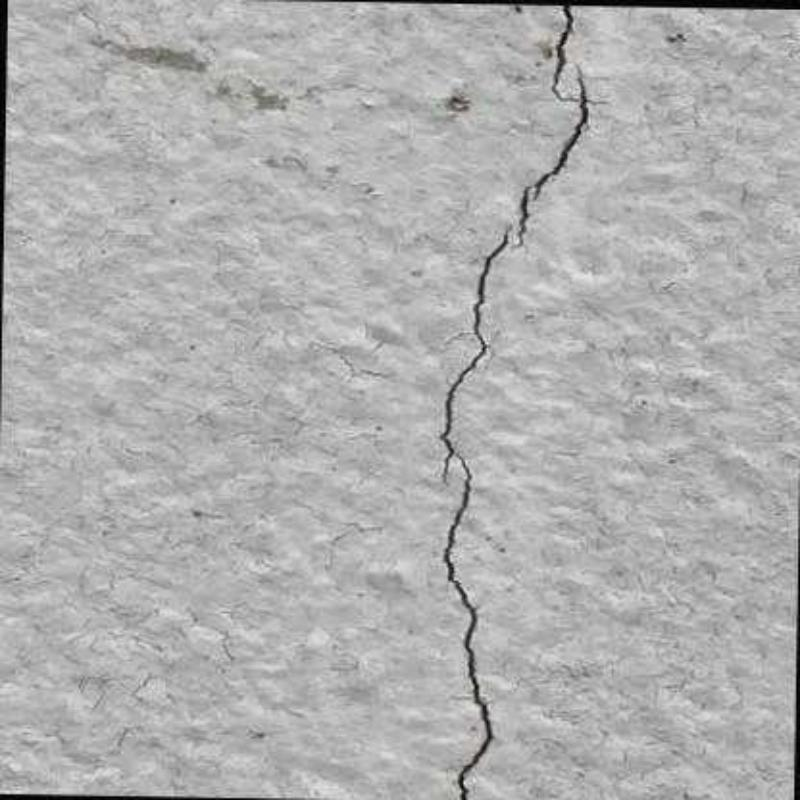pothole: (437, 228, 514, 799), (519, 70, 592, 248), (547, 5, 614, 107)
